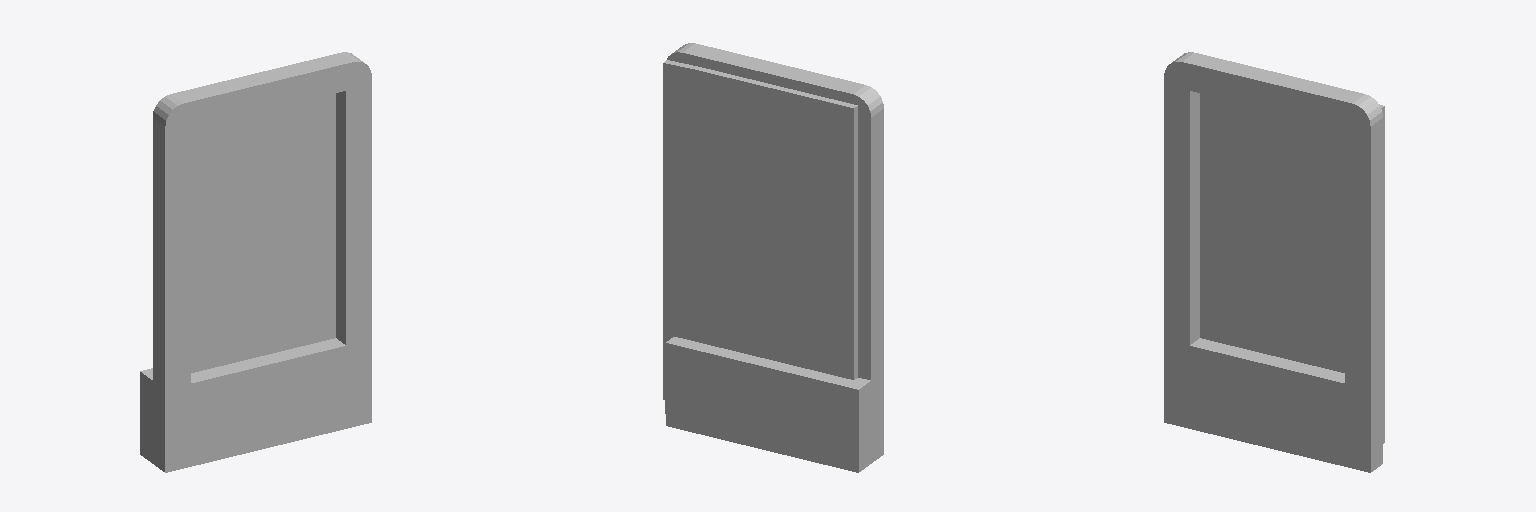
The model's file is backdrop2.obj.
The picture shows the model from 3 angles: view 1: azimuth 30°, elevation 25°; view 2: azimuth 150°, elevation 25°; view 3: azimuth 330°, elevation 25°; orthographic projection.
Parts seen in each view (by area): view 1: CU.001; view 2: CU.001; view 3: CU.001.
Boxes of the visible parts, box(x1,y1,x2,y2) form: CU.001: box(140, 52, 371, 472); CU.001: box(663, 43, 883, 472); CU.001: box(1164, 52, 1384, 472).
Size of the model in its own units: 1.32 by 2.22 by 0.2805.